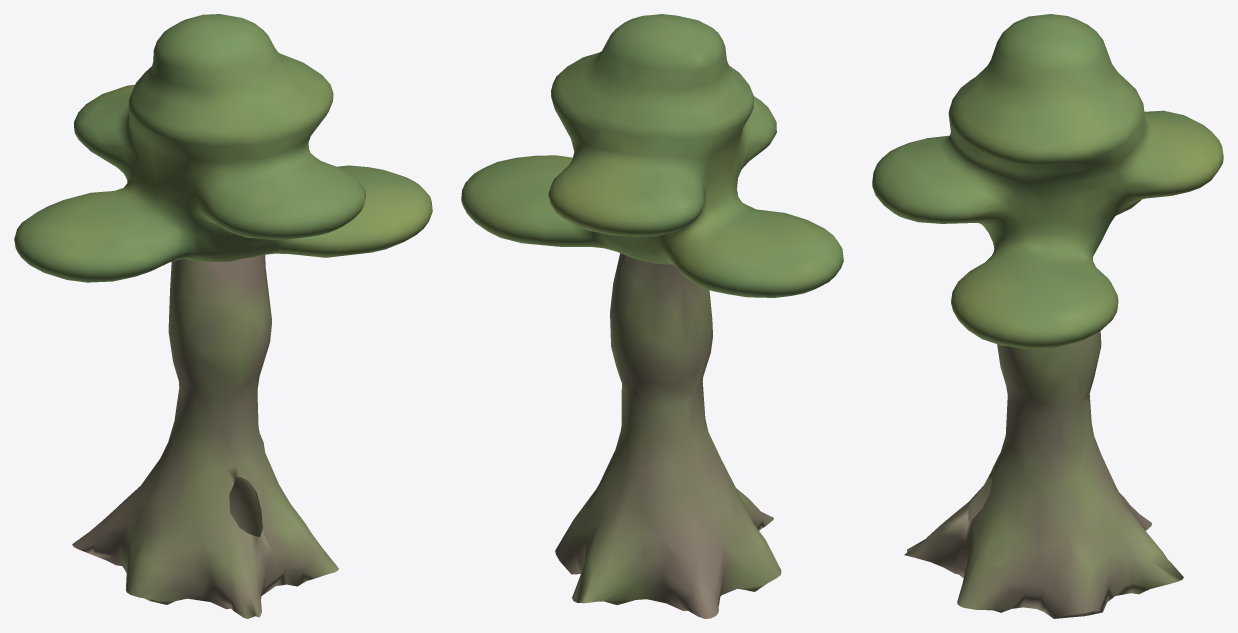
Rendered from old-tree1.glb.
3 views of the same model, side by side, from view 1: azimuth 30°, elevation 25°; view 2: azimuth 150°, elevation 25°; view 3: azimuth 270°, elevation 25° (orthographic).
Parts seen in each view (by area): view 1: old_canopy_tall, body; view 2: old_canopy_tall, body; view 3: old_canopy_tall, body.
Boxes of the visible parts, left/top/right/bottom form: old_canopy_tall: left=14, top=14, right=432, bottom=282; body: left=72, top=254, right=338, bottom=618; old_canopy_tall: left=461, top=14, right=843, bottom=297; body: left=555, top=253, right=781, bottom=618; old_canopy_tall: left=872, top=14, right=1223, bottom=348; body: left=904, top=331, right=1183, bottom=618.
Bounding box in the file's own units: 4.02 × 5.53 × 3.18.
